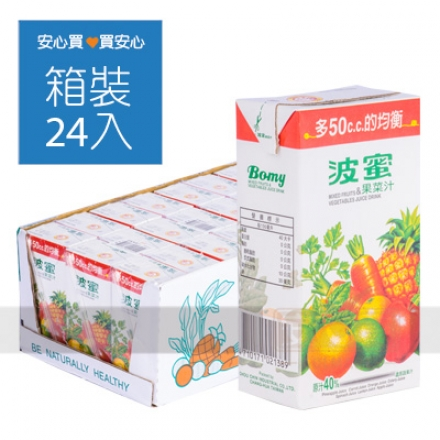vegetables juice: (222, 77, 434, 417), (55, 249, 116, 368)
